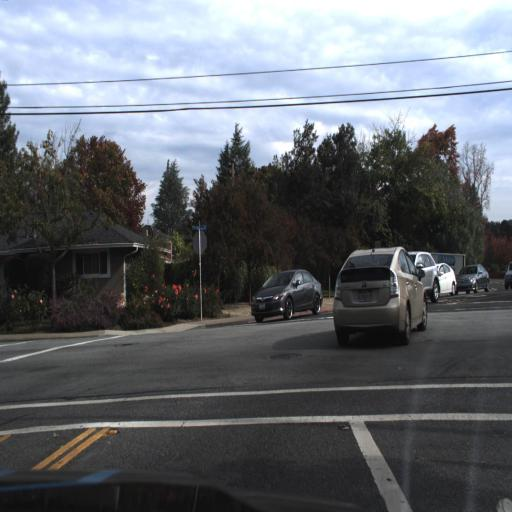car: (332, 250, 433, 347), (250, 265, 324, 323), (411, 249, 439, 306), (454, 265, 491, 293), (502, 261, 511, 291)
